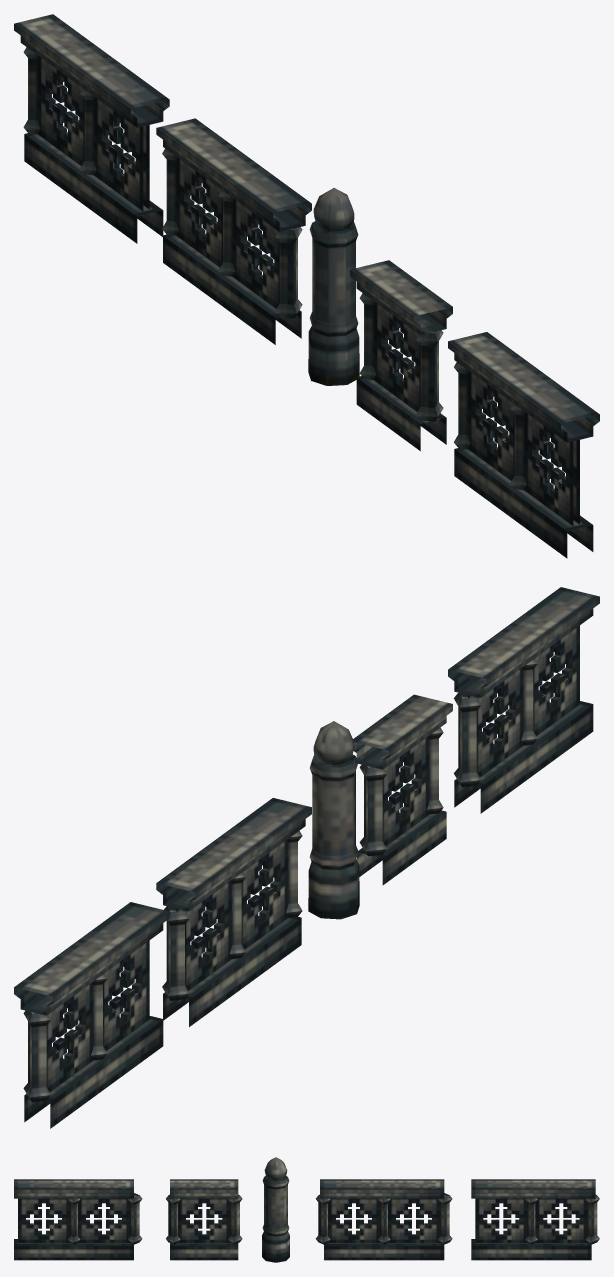
The model's file is EnvMdrMD_Daiseidou_A_Fence_C_End_A.FBX.
The picture shows the model from 3 angles, top to bottom: view 1: azimuth 30°, elevation 25°; view 2: azimuth 150°, elevation 25°; view 3: azimuth 270°, elevation 25°; orthographic projection. The views are drawn at different scales.
Visible parts, largest first — view 1: EnvMdrMD_Daiseidou_A_Fence_C_End_A, EnvMdrMD_Daiseidou_A_Fence_C_Start_A, EnvMdrMD_Daiseidou_A_Fence_C_Loop_A, EnvMdrMD_Daiseidou_A_Fence_C_Harf_A, EnvMdrMD_Daiseidou_A_Fence_C_Post_A; view 2: EnvMdrMD_Daiseidou_A_Fence_C_End_A, EnvMdrMD_Daiseidou_A_Fence_C_Start_A, EnvMdrMD_Daiseidou_A_Fence_C_Loop_A, EnvMdrMD_Daiseidou_A_Fence_C_Harf_A, EnvMdrMD_Daiseidou_A_Fence_C_Post_A; view 3: EnvMdrMD_Daiseidou_A_Fence_C_End_A, EnvMdrMD_Daiseidou_A_Fence_C_Start_A, EnvMdrMD_Daiseidou_A_Fence_C_Loop_A, EnvMdrMD_Daiseidou_A_Fence_C_Harf_A, EnvMdrMD_Daiseidou_A_Fence_C_Post_A.
Boxes of the visible parts, x1,y1,x2,y2 form: EnvMdrMD_Daiseidou_A_Fence_C_End_A: [156, 118, 311, 344]; EnvMdrMD_Daiseidou_A_Fence_C_Start_A: [14, 14, 169, 243]; EnvMdrMD_Daiseidou_A_Fence_C_Loop_A: [448, 332, 599, 558]; EnvMdrMD_Daiseidou_A_Fence_C_Harf_A: [350, 260, 452, 450]; EnvMdrMD_Daiseidou_A_Fence_C_Post_A: [308, 188, 359, 385]; EnvMdrMD_Daiseidou_A_Fence_C_End_A: [156, 798, 311, 1026]; EnvMdrMD_Daiseidou_A_Fence_C_Start_A: [14, 902, 169, 1128]; EnvMdrMD_Daiseidou_A_Fence_C_Loop_A: [448, 587, 599, 813]; EnvMdrMD_Daiseidou_A_Fence_C_Harf_A: [353, 694, 452, 885]; EnvMdrMD_Daiseidou_A_Fence_C_Post_A: [308, 721, 359, 919]; EnvMdrMD_Daiseidou_A_Fence_C_End_A: [315, 1179, 452, 1260]; EnvMdrMD_Daiseidou_A_Fence_C_Start_A: [471, 1179, 599, 1260]; EnvMdrMD_Daiseidou_A_Fence_C_Loop_A: [14, 1179, 142, 1260]; EnvMdrMD_Daiseidou_A_Fence_C_Harf_A: [166, 1179, 242, 1260]; EnvMdrMD_Daiseidou_A_Fence_C_Post_A: [262, 1157, 289, 1262].
Bounding box in the file's own units: 35.26 × 138 × 732.
Materials: 1 (1 with a texture image).
